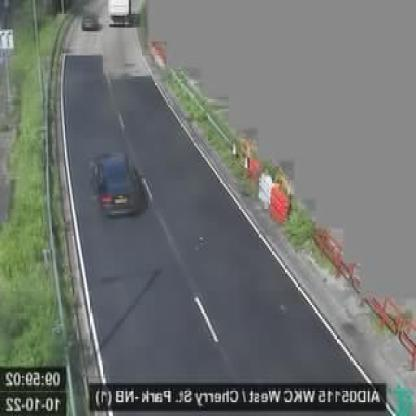Car: (94, 152, 146, 219), (80, 10, 98, 31)
Truck: (107, 0, 132, 25)
